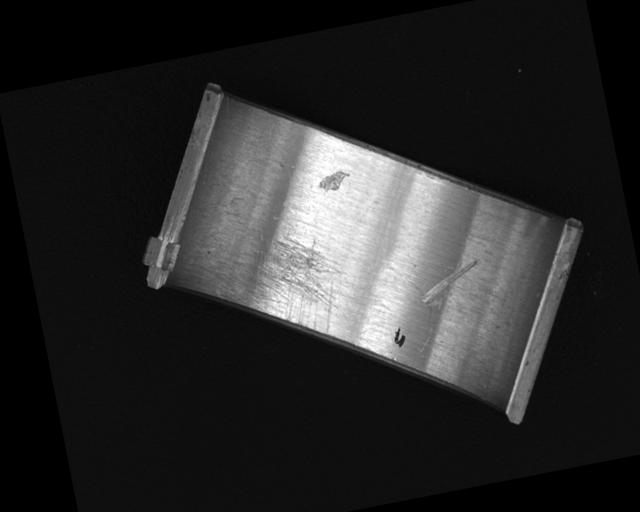blot: (390, 325, 407, 349)
bruise: (315, 168, 353, 195)
nick: (392, 276, 439, 371), (415, 259, 484, 307)
scratch: (212, 219, 355, 354)
